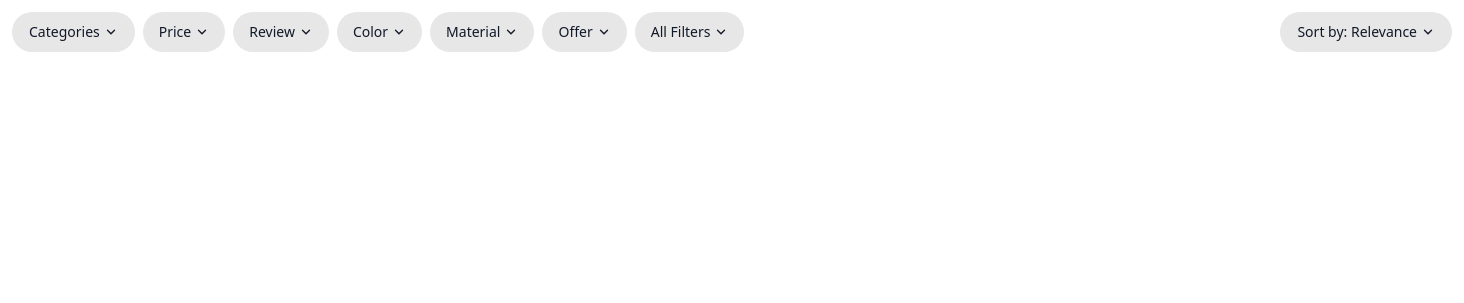
FilterBar › selects Electronics and closes dropdown
The image size is (1464, 303).
Click the button "Categories".
click(73, 32)  # box top-left (12, 12), bottom-right (135, 52)
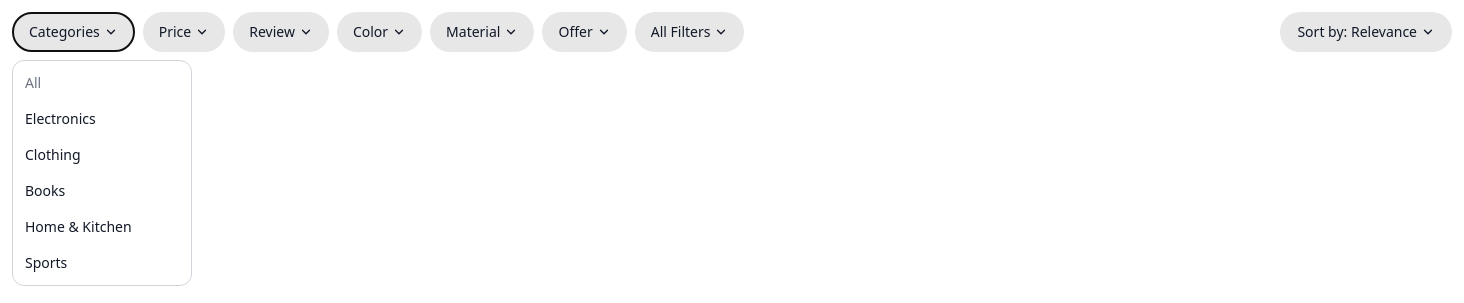
Click the option "Electronics".
click(102, 119)  # box top-left (13, 101), bottom-right (191, 137)
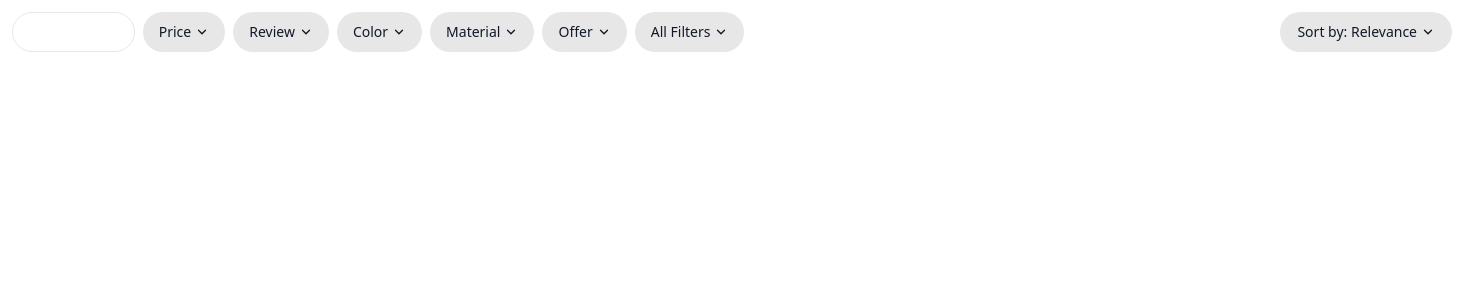
Check: the button named "categories" reads "Electronics", box top-left (12, 12), bottom-right (135, 52)
Check: the list is gone
